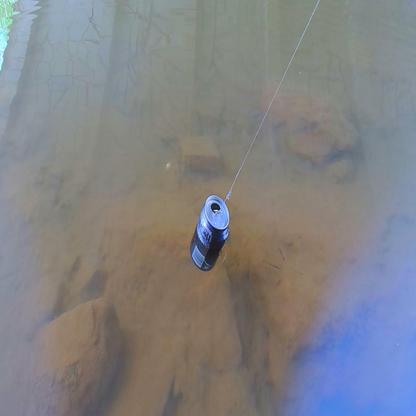can: (190, 193, 230, 272)
